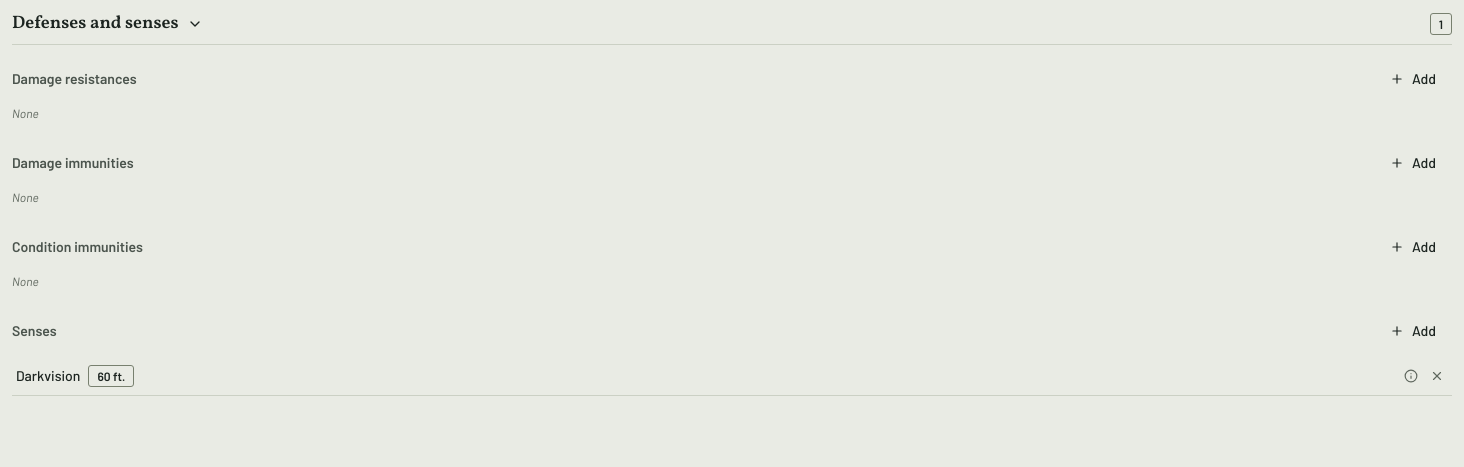
Test case: Defenses and senses screen-reader names › names each tag search field by its section
What coordinates should you click on to do the following:
click the button with aria-label "Add damage resistances"
I would click on:
 (1413, 79)
Its box is 1374,61 -> 1452,97.
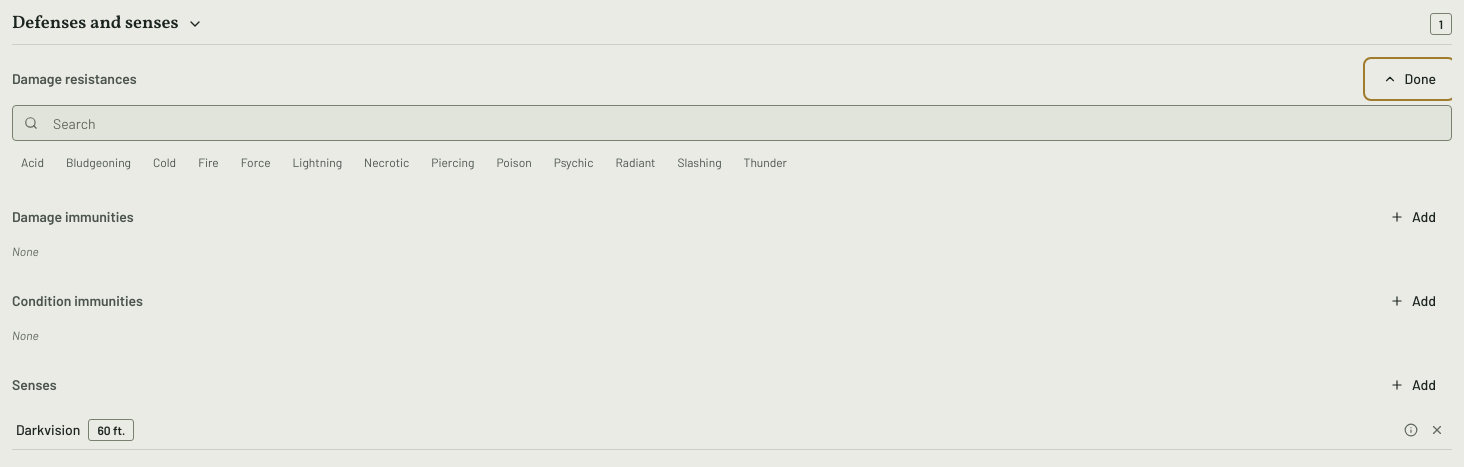
Check: the field named "Search damage resistances" is shown, box 12,105 -> 1452,141
